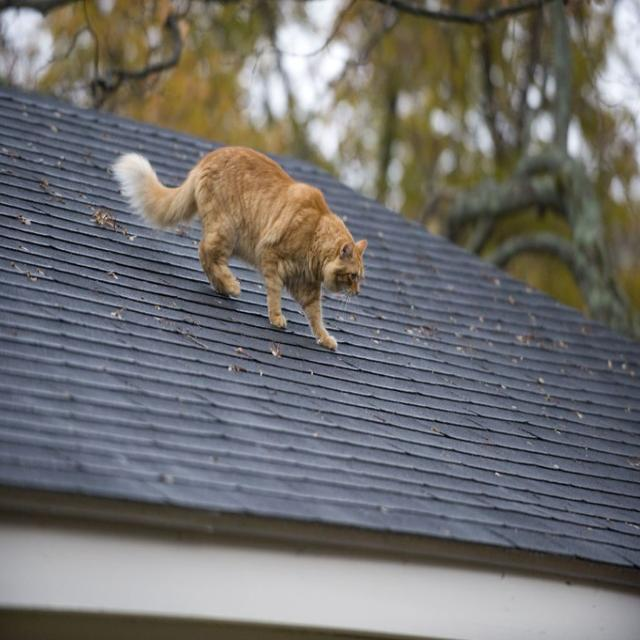Cat: (110, 143, 367, 350)
